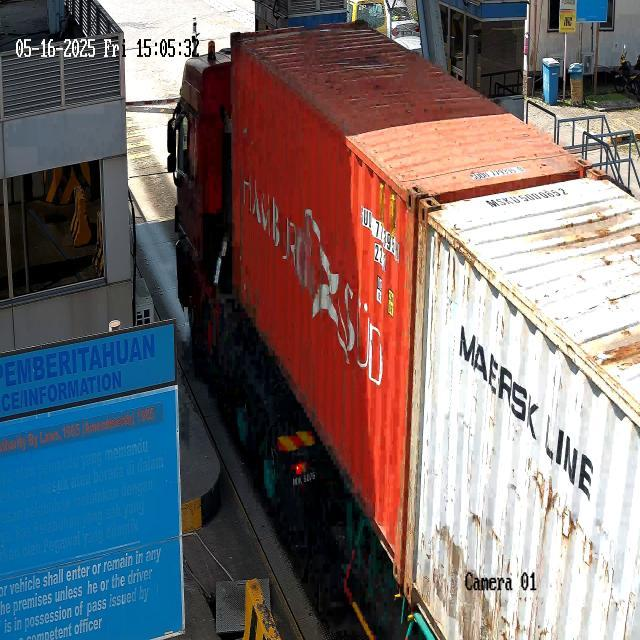ISO: (370, 242, 390, 272)
container_number: (357, 203, 402, 258)
